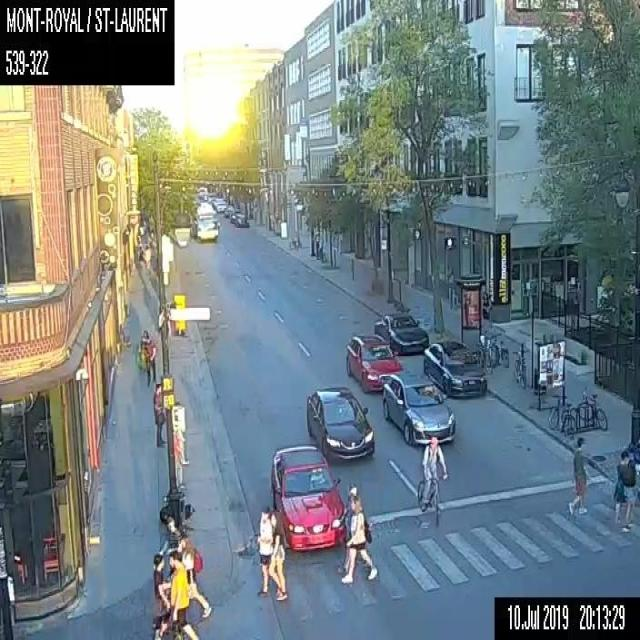bus: (194, 201, 219, 240)
cyclist: (417, 434, 449, 521)
pedestrian: (160, 549, 200, 639), (337, 481, 372, 573), (341, 495, 376, 584), (176, 535, 212, 616), (151, 552, 171, 639), (612, 449, 634, 527), (567, 435, 588, 516), (268, 511, 286, 600), (255, 511, 272, 600), (157, 515, 182, 575), (173, 429, 188, 490), (152, 382, 165, 447), (144, 335, 155, 386), (136, 329, 148, 371), (144, 243, 150, 265), (138, 244, 143, 262)
vehicle: (267, 444, 345, 549), (381, 372, 455, 447), (306, 385, 374, 460), (422, 336, 486, 399), (344, 334, 404, 393), (374, 311, 428, 356), (229, 208, 246, 222), (210, 197, 223, 209), (216, 200, 227, 212), (223, 203, 233, 215)
